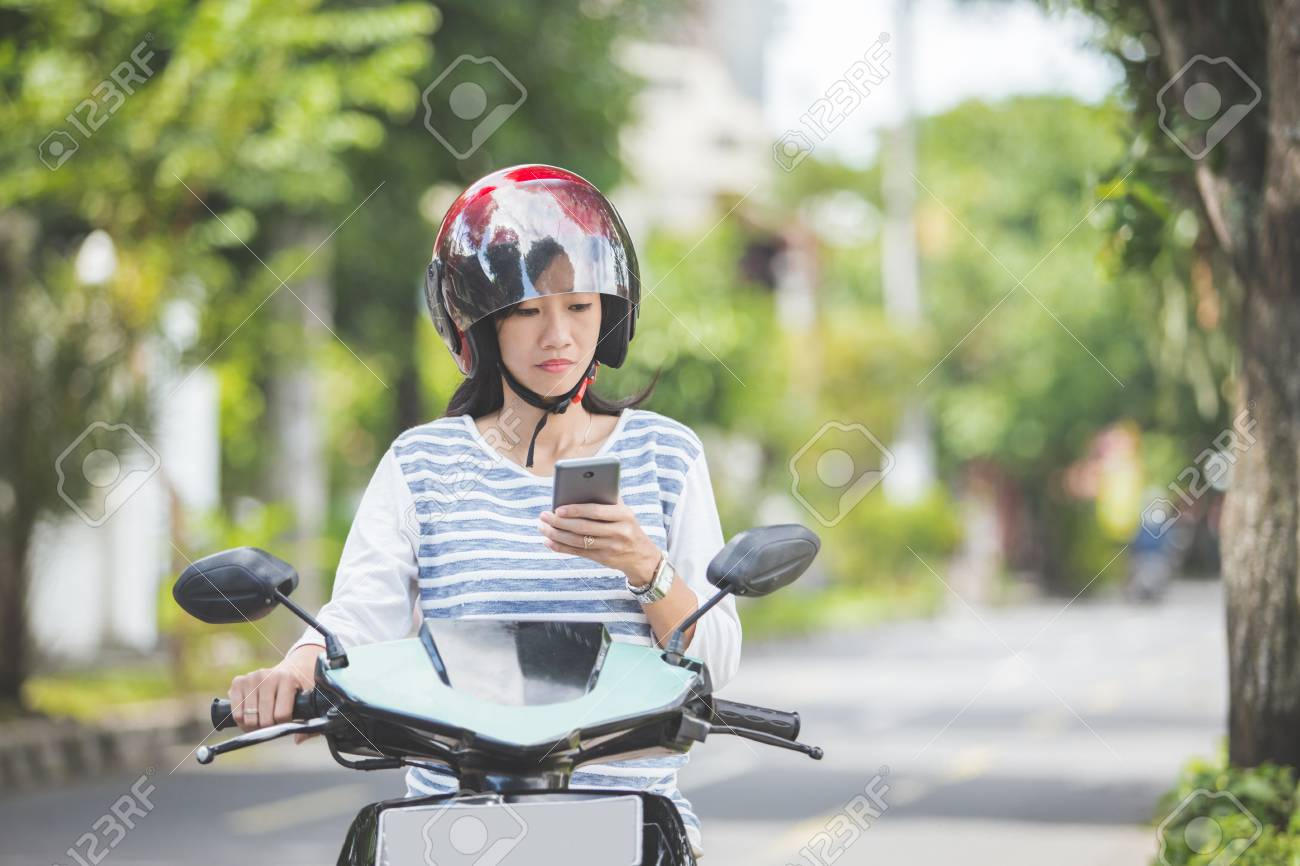dieu khien xe may: (298, 162, 717, 866)
su dung dien thoai: (428, 165, 646, 569)
